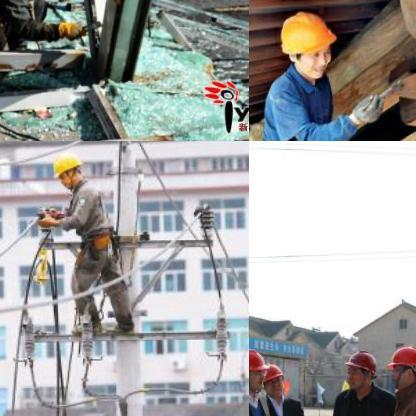Helmet: (274, 4, 336, 80), (50, 146, 84, 188), (342, 348, 376, 390), (386, 343, 415, 390), (249, 346, 265, 393), (261, 362, 281, 394)
